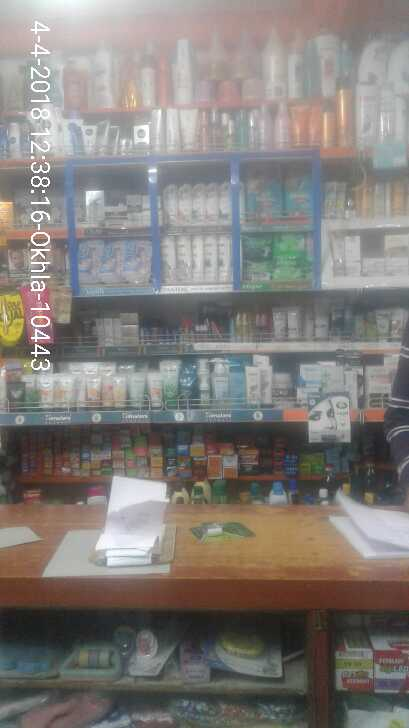venus: (125, 239, 153, 282), (99, 240, 125, 282), (77, 240, 99, 283)
